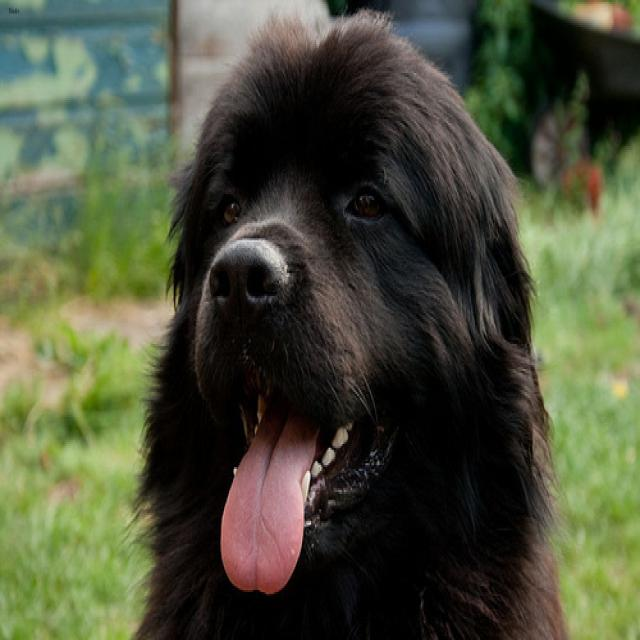dog-newfoundland: (123, 2, 579, 636)
